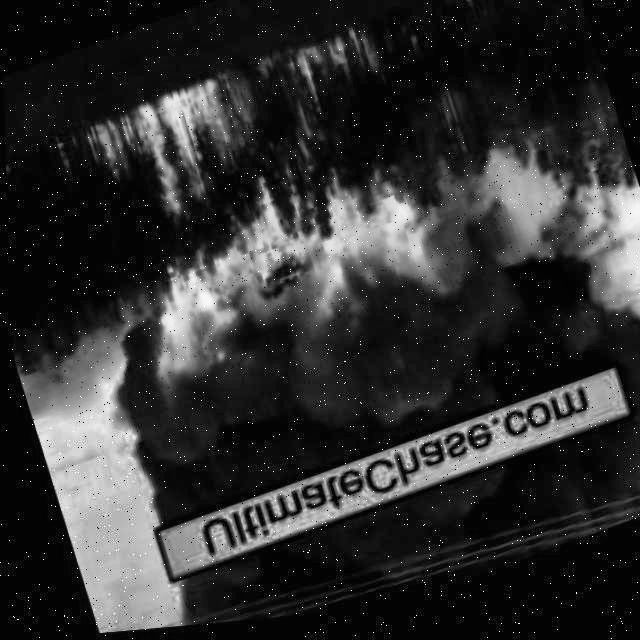Fire: (75, 21, 461, 418), (461, 0, 522, 10)
Smoke: (110, 204, 640, 533), (146, 403, 640, 631)
